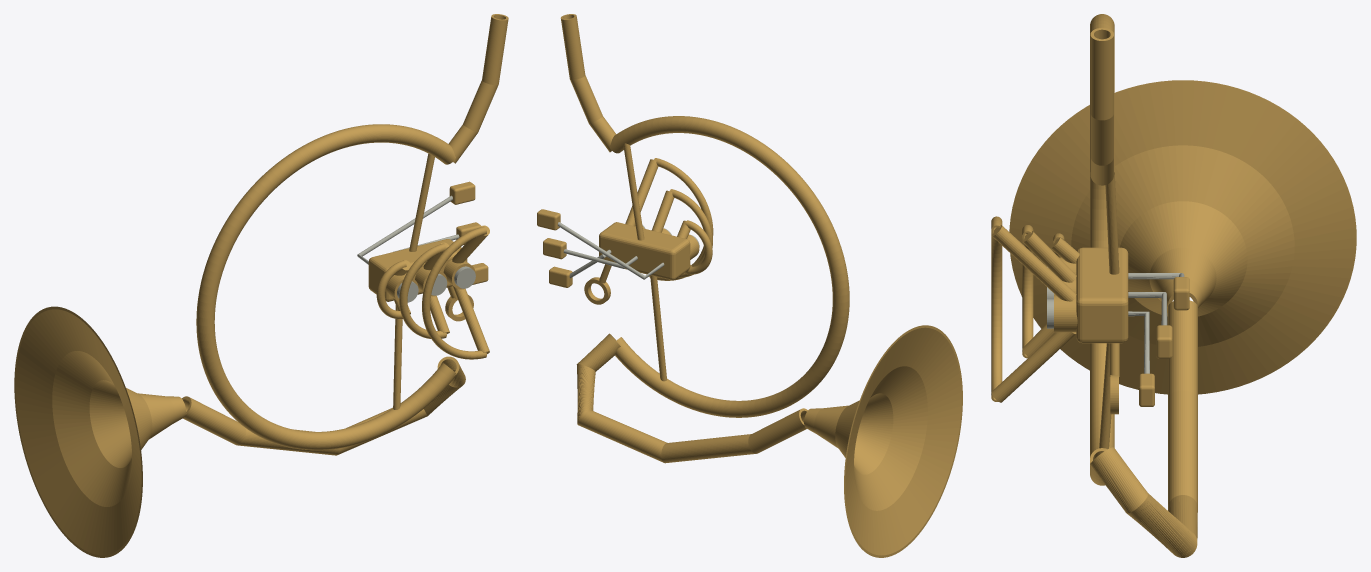
File: full.glb
3 renders of one model, left to right at view 1: azimuth 30°, elevation 25°; view 2: azimuth 150°, elevation 25°; view 3: azimuth 270°, elevation 25°, orthographic. The views are drawn at different scales.
Visible parts, largest first — view 1: Hollow broad flared bell, Broad main coiled tube, Rear bell throat bend, Open rising leadpipe, Nested tuning U 2, Valve bank support, Nested tuning U 1, Valve branch lower socket 2, Upper bank brace, Lower bank brace, Nested tuning U 0; view 2: Hollow broad flared bell, Broad main coiled tube, Rear bell throat bend, Valve bank support, Open rising leadpipe, Nested tuning U 2, Lower bank brace, Upper bank brace, Nested tuning U 1, Valve branch upper socket 2, Nested tuning U 0, Lever linkage 0; view 3: Hollow broad flared bell, Rear bell throat bend, Valve bank support, Open rising leadpipe, Broad main coiled tube, Nested tuning U 2, Valve branch upper socket 2, Valve branch lower socket 2, Nested tuning U 1, Upper bank brace, Valve branch upper socket 1, Lower bank brace (+5 smaller).
Part boxes in pixels (box(x1,y1,x2,y2)): Hollow broad flared bell: box(14, 306, 185, 557); Broad main coiled tube: box(196, 124, 455, 450); Rear bell throat bend: box(182, 356, 465, 455); Open rising leadpipe: box(448, 14, 508, 163); Nested tuning U 2: box(422, 226, 486, 359); Valve bank support: box(368, 239, 467, 301); Nested tuning U 1: box(399, 243, 446, 338); Valve branch lower socket 2: box(453, 286, 489, 353); Upper bank brace: box(409, 153, 434, 251); Lower bank brace: box(393, 305, 402, 409); Nested tuning U 0: box(376, 260, 406, 318); Hollow broad flared bell: box(804, 325, 962, 557); Broad main coiled tube: box(609, 116, 849, 417); Rear bell throat bend: box(576, 333, 807, 463); Valve bank support: box(599, 222, 690, 280); Open rising leadpipe: box(560, 14, 616, 152); Nested tuning U 2: box(654, 158, 713, 280); Lower bank brace: box(650, 275, 666, 381); Upper bank brace: box(623, 143, 644, 240); Nested tuning U 1: box(670, 189, 712, 277); Valve branch upper socket 2: box(625, 159, 658, 226); Nested tuning U 0: box(685, 220, 712, 274); Lever linkage 0: box(557, 222, 664, 279); Hollow broad flared bell: box(1009, 80, 1356, 394); Rear bell throat bend: box(1090, 300, 1197, 557); Valve bank support: box(1076, 247, 1128, 343); Open rising leadpipe: box(1090, 28, 1113, 185); Broad main coiled tube: box(1090, 14, 1114, 485); Nested tuning U 2: box(991, 216, 1002, 401); Valve branch upper socket 2: box(991, 225, 1076, 301); Valve branch lower socket 2: box(991, 332, 1076, 402); Nested tuning U 1: box(1022, 225, 1033, 358); Upper bank brace: box(1105, 174, 1119, 274); Valve branch upper socket 1: box(1022, 231, 1076, 282); Lower bank brace: box(1099, 343, 1111, 449).
Size of the model in its own units: 0.5014 by 0.5515 by 0.2945.
